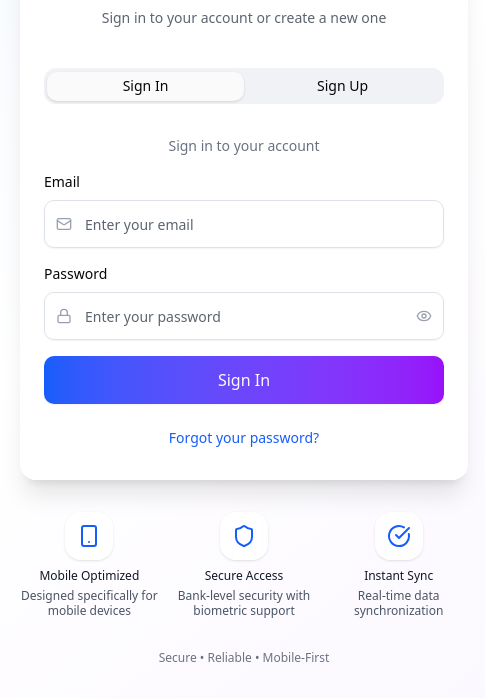
Scenario: MobileAuthPage › validates required fields on login
The image size is (485, 698).
(page scrolled)
Click the button "Sign In".
click(244, 380)  # box x1=44 y1=356 x2=444 y2=404
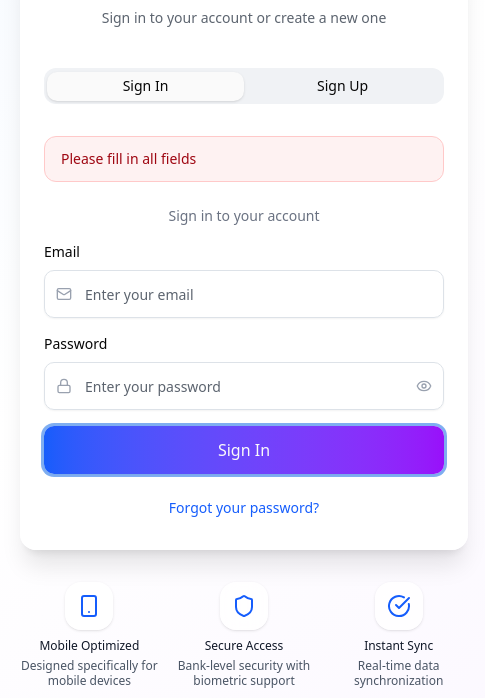
Expected: the text "Please fill in all fields" is shown, x1=61 y1=149 x2=196 y2=168
